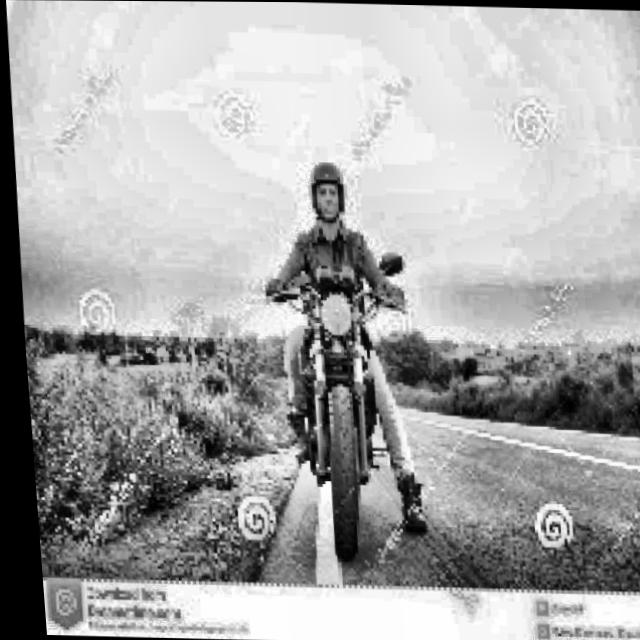motorcycle: (242, 239, 426, 567)
